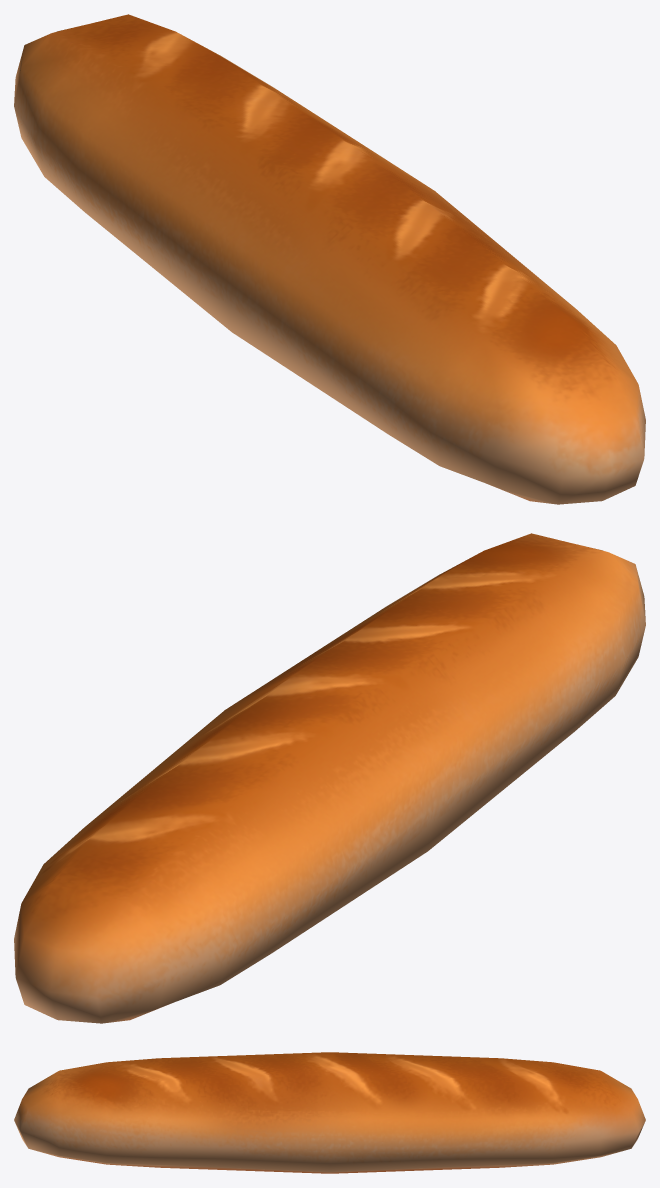
The model's file is French.fbx.
The picture shows the model from 3 angles, top to bottom: view 1: azimuth 30°, elevation 25°; view 2: azimuth 150°, elevation 25°; view 3: azimuth 270°, elevation 25°; orthographic projection. The views are drawn at different scales.
Parts seen in each view (by area): view 1: French; view 2: French; view 3: French.
Boxes of the visible parts, x1,y1,x2,y2 form: French: (14, 14, 645, 504); French: (14, 533, 645, 1023); French: (14, 1052, 645, 1173).
Size of the model in its own units: 25.84 by 20.74 by 117.
